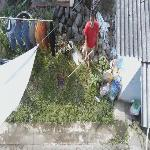Pedang: (68, 42, 92, 82)
